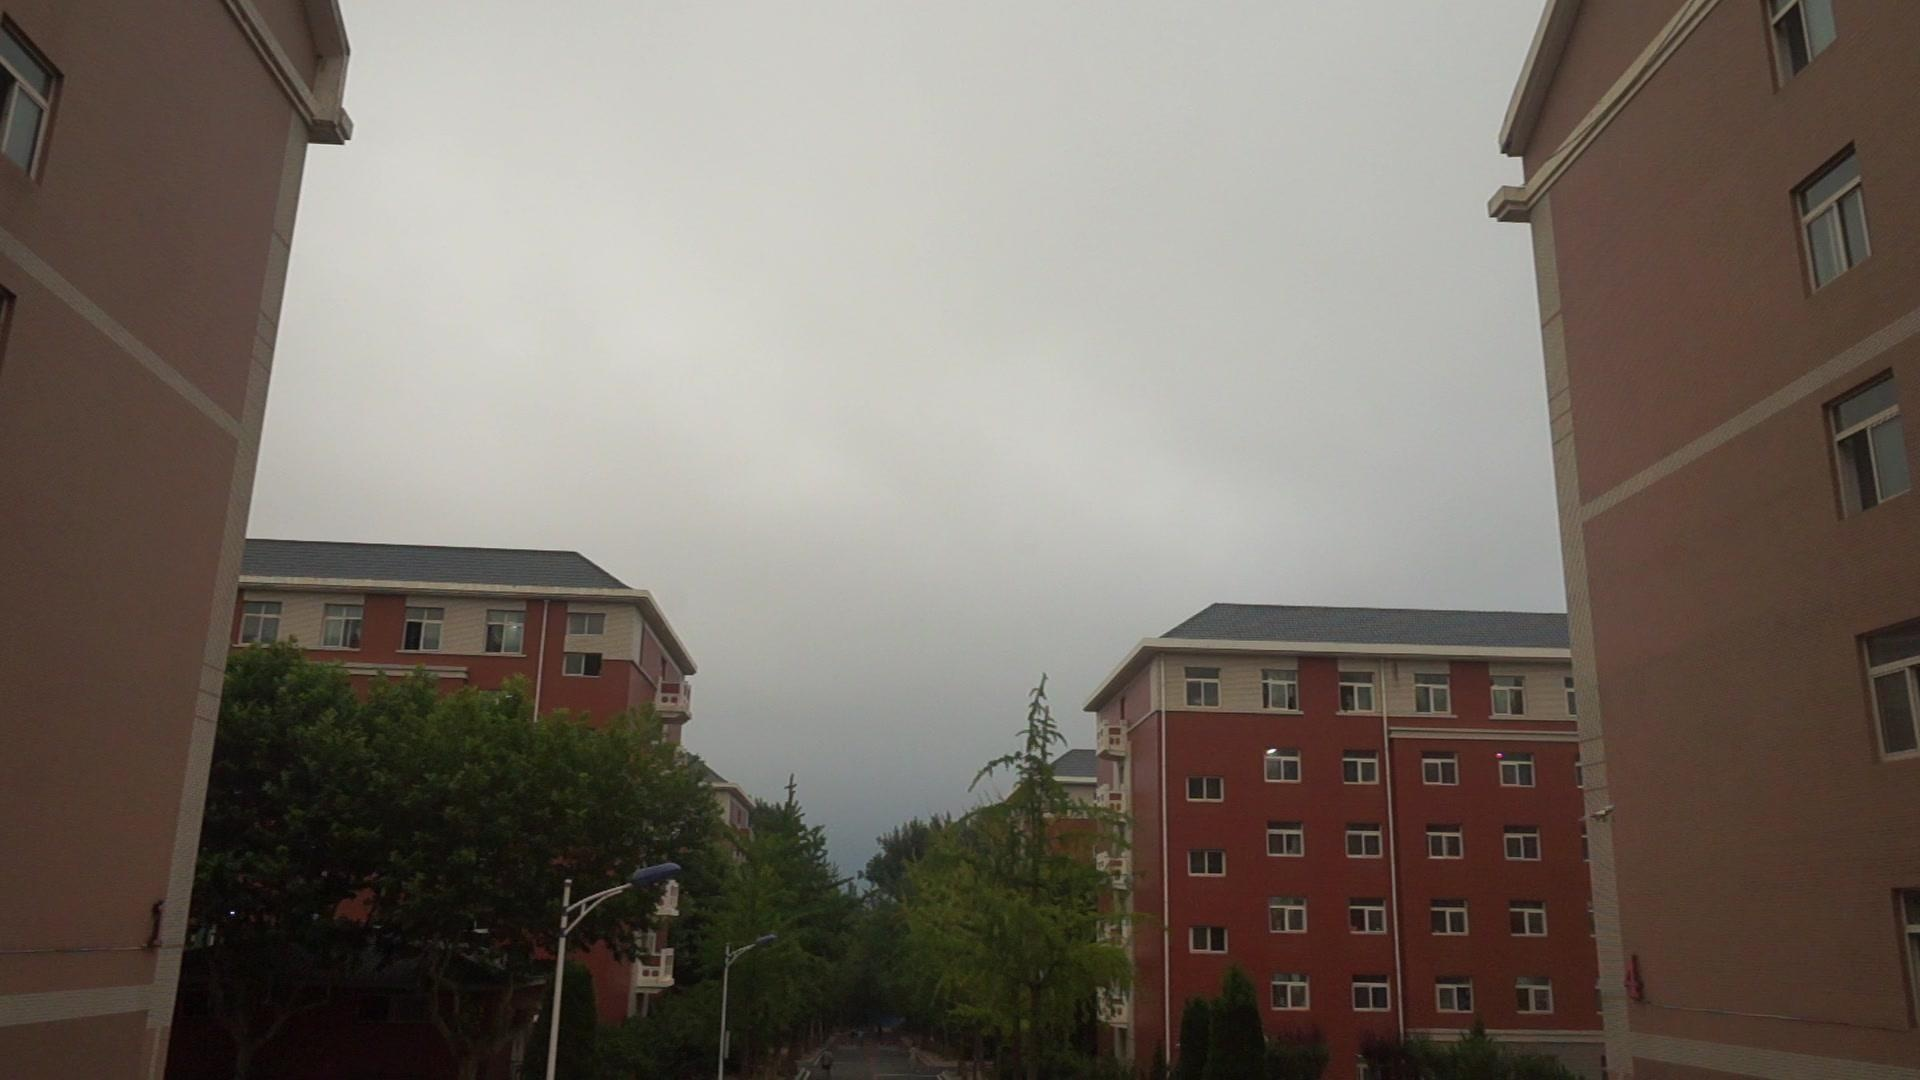UAV: (1578, 804, 1615, 824)
